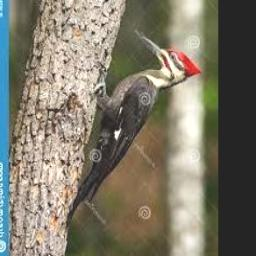Woodpecker: (66, 30, 200, 228)
